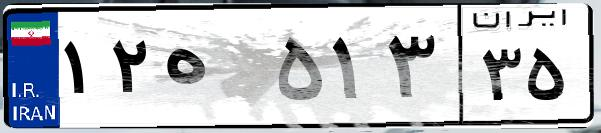1: (330, 28, 385, 110), (57, 26, 110, 100)
2: (110, 28, 158, 98)
3: (385, 28, 445, 110), (475, 38, 525, 113)
5: (270, 28, 330, 110), (525, 38, 570, 115)
ه: (158, 20, 270, 120)
